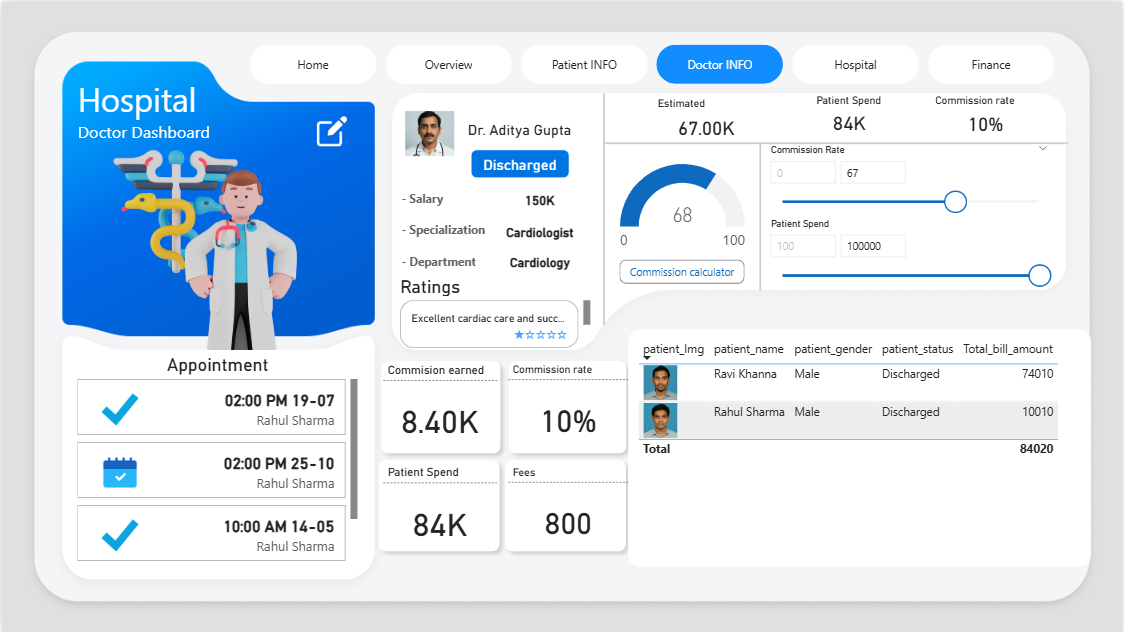

The dashboard page shown, as its layout file describes it:
{"tool":"powerbi","page":{"name":"Doctor INFO","canvas":[1280,720],"ordinal":3},"visuals":[{"type":"image","box":[354.3,125.7,45.7,44.3],"z":0},{"type":"shape","box":[455.7,211.4,114.3,25.7],"z":1000},{"type":"textbox","box":[81.7,81.7,192.6,109.7],"z":2000},{"type":"shape","box":[455.6,247.5,114.4,25.6],"z":3000},{"type":"shape","box":[566.4,513.6,156.4,122.7],"z":4000},{"type":"shape","box":[455.7,282.9,114.3,25.7],"z":5000},{"type":"shape","box":[421.8,513.6,156.4,122.7],"z":6000},{"type":"card","title":"Admission date","fields":{"Values":["Min(patient_info.doctor_salary)"]},"box":[543.1,211.2,143.8,32.5],"z":7000},{"type":"shape","box":[423.6,400.9,154.5,123.6],"z":8000},{"type":"card","title":"Admission date","fields":{"Values":["Min(patient_info.doctor_specialization)"]},"box":[542.1,247.9,144.3,31.4],"z":9000},{"type":"shape","box":[570,400.9,152.7,123.6],"z":10000},{"type":"card","title":"Admission date","fields":{"Values":["Min(patient_info.doctor_department)"]},"box":[542.9,282.9,144.3,32.9],"z":11000},{"type":"card","title":"Fees","fields":{"Values":["Min(appointment.fees)"]},"box":[578.2,530,137.3,106.4],"z":12000},{"type":"card","title":"Commission rate","fields":{"Values":["_Measures.DR_Commission"]},"box":[578.2,412.7,137.3,106.4],"z":13000},{"type":"card","title":"Patient Spend","fields":{"Values":["_Measures.Total_bill_amount"]},"box":[436.4,530,130,106.4],"z":14000},{"type":"card","title":"Commision earned","fields":{"Values":["_Measures.Dr_Commission_Amt"]},"box":[436.4,412.7,130,106.4],"z":15000},{"type":"cardVisual","fields":{"Data":["Min(patient_info.doctor_Img)"]},"box":[440,81.4,102.9,142.9],"z":16000},{"type":"card","title":"Admission date","fields":{"Values":["Min(patient_info.doctor_name)"]},"box":[519.3,130,143.6,32.9],"z":17000},{"type":"card","title":"Admission date","fields":{"Values":["Min(patient_info.patient_status)"]},"box":[535,168.6,112.9,32.9],"z":18000},{"type":"image","box":[94.3,145.7,282.9,257.1],"z":19000},{"type":"advancedSlicerVisual","title":"Appointment","fields":{"Values":["appointment.Appointment_time_date"]},"box":[81.4,402.9,330,243],"z":20000},{"type":"advancedSlicerVisual","title":"Ratings","fields":{"Values":["patient_info.satisfaction_feedback"]},"box":[450,312.9,227.1,88.6],"z":22000},{"type":"tableEx","fields":{"Values":["patient_info.patient_Img","patient_info.patient_name","patient_info.patient_gender","patient_info.patient_status","_Measures.Total_bill_amount"]},"box":[715.7,374.3,528.6,271.4],"z":23000},{"type":"card","title":"Patient Spend","fields":{"Values":["_Measures.Total_bill_amount"]},"box":[925,105.7,85.7,51.4],"z":24000},{"type":"card","title":"Commission rate","fields":{"Values":["_Measures.DR_Commission"]},"box":[1060.7,105.7,125.7,54.3],"z":25000},{"type":"slicer","fields":{"Values":["Estimate_Patient_Amount.Estimate_Patient_Amount"]},"box":[865.7,241.4,341.4,107.1],"z":26000},{"type":"slicer","fields":{"Values":["Estimate_Commission_Rate.Estimate_Commission_Rate"]},"box":[865.7,157.1,341.4,91.4],"z":27000},{"type":"card","title":"Estimated","fields":{"Values":["_Measures.Estimate_Commission"]},"box":[744.3,107.9,121.4,57.1],"z":28000},{"type":"gauge","fields":{"MaxValue":["_Measures.Target"],"Y":["CountNonNull(Estimate_Commission_Rate.Estimate_Commission_Rate)"]},"box":[701.2,174.1,152.9,125.3],"z":29000},{"type":"shape","box":[687.1,132.9,531.4,57.1],"z":30000},{"type":"shape","box":[669.4,103.9,36.1,265.2],"z":31000},{"type":"shape","box":[848,160,36,169.3],"z":32000},{"type":"shape","box":[705.3,294.7,142.9,27.6],"z":33000},{"type":"pageNavigator","box":[282.9,48.6,922.9,45.7],"z":34000},{"type":"actionButton","box":[275.1,49.5,138.7,39.8],"z":35000},{"type":"actionButton","box":[591.2,50.7,138.7,39.8],"z":36000},{"type":"actionButton","box":[901.2,49.5,138.7,39.8],"z":37000},{"type":"actionButton","box":[1050.8,51.9,138.7,39.8],"z":38000},{"type":"actionButton","box":[430.7,49.5,138.7,39.8],"z":39000}]}

Visuals, with their boxes in screenshot pixels (x1, y1, x2, y2), scaled from the page's 1280x720 canvas onto the 1124x632 screenshot:
image: region(311, 110, 351, 149)
shape: region(400, 186, 501, 208)
textbox: region(72, 72, 241, 168)
shape: region(400, 217, 501, 240)
shape: region(497, 451, 635, 559)
shape: region(400, 248, 501, 271)
shape: region(370, 451, 508, 559)
"Admission date" card: region(477, 185, 603, 214)
shape: region(372, 352, 508, 460)
"Admission date" card: region(476, 218, 603, 245)
shape: region(501, 352, 635, 460)
"Admission date" card: region(477, 248, 603, 277)
"Fees" card: region(508, 465, 628, 559)
"Commission rate" card: region(508, 362, 628, 456)
"Patient Spend" card: region(383, 465, 497, 559)
"Commision earned" card: region(383, 362, 497, 456)
cardVisual - Min(patient_info.doctor_Img): region(386, 71, 477, 197)
"Admission date" card: region(456, 114, 582, 143)
"Admission date" card: region(470, 148, 569, 177)
image: region(83, 128, 331, 354)
"Appointment" advancedSlicerVisual: region(71, 354, 361, 567)
"Ratings" advancedSlicerVisual: region(395, 275, 595, 352)
tableEx - patient_info.patient_Img x patient_info.patient_name: region(628, 329, 1093, 567)
"Patient Spend" card: region(812, 93, 888, 138)
"Commission rate" card: region(931, 93, 1042, 140)
slicer - Estimate_Patient_Amount.Estimate_Patient_Amount: region(760, 212, 1060, 306)
slicer - Estimate_Commission_Rate.Estimate_Commission_Rate: region(760, 138, 1060, 218)
"Estimated" card: region(654, 95, 760, 145)
gauge - _Measures.Target x CountNonNull(Estimate_Commission_Rate.Estimate_Commission_Rate): region(616, 153, 750, 263)
shape: region(603, 117, 1070, 167)
shape: region(588, 91, 620, 324)
shape: region(745, 140, 776, 289)
shape: region(619, 259, 745, 283)
pageNavigator: region(248, 43, 1059, 83)
actionButton: region(242, 43, 363, 78)
actionButton: region(519, 45, 641, 79)
actionButton: region(791, 43, 913, 78)
actionButton: region(923, 46, 1045, 80)
actionButton: region(378, 43, 500, 78)
